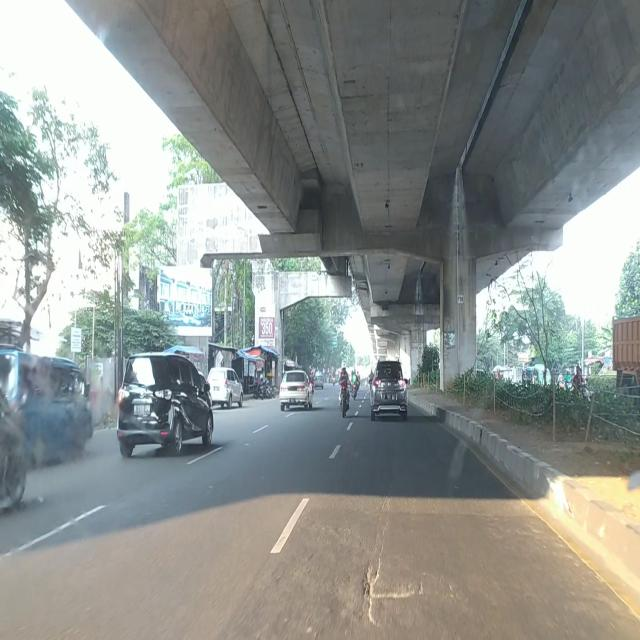Drain Hole: (344, 528, 401, 631)
